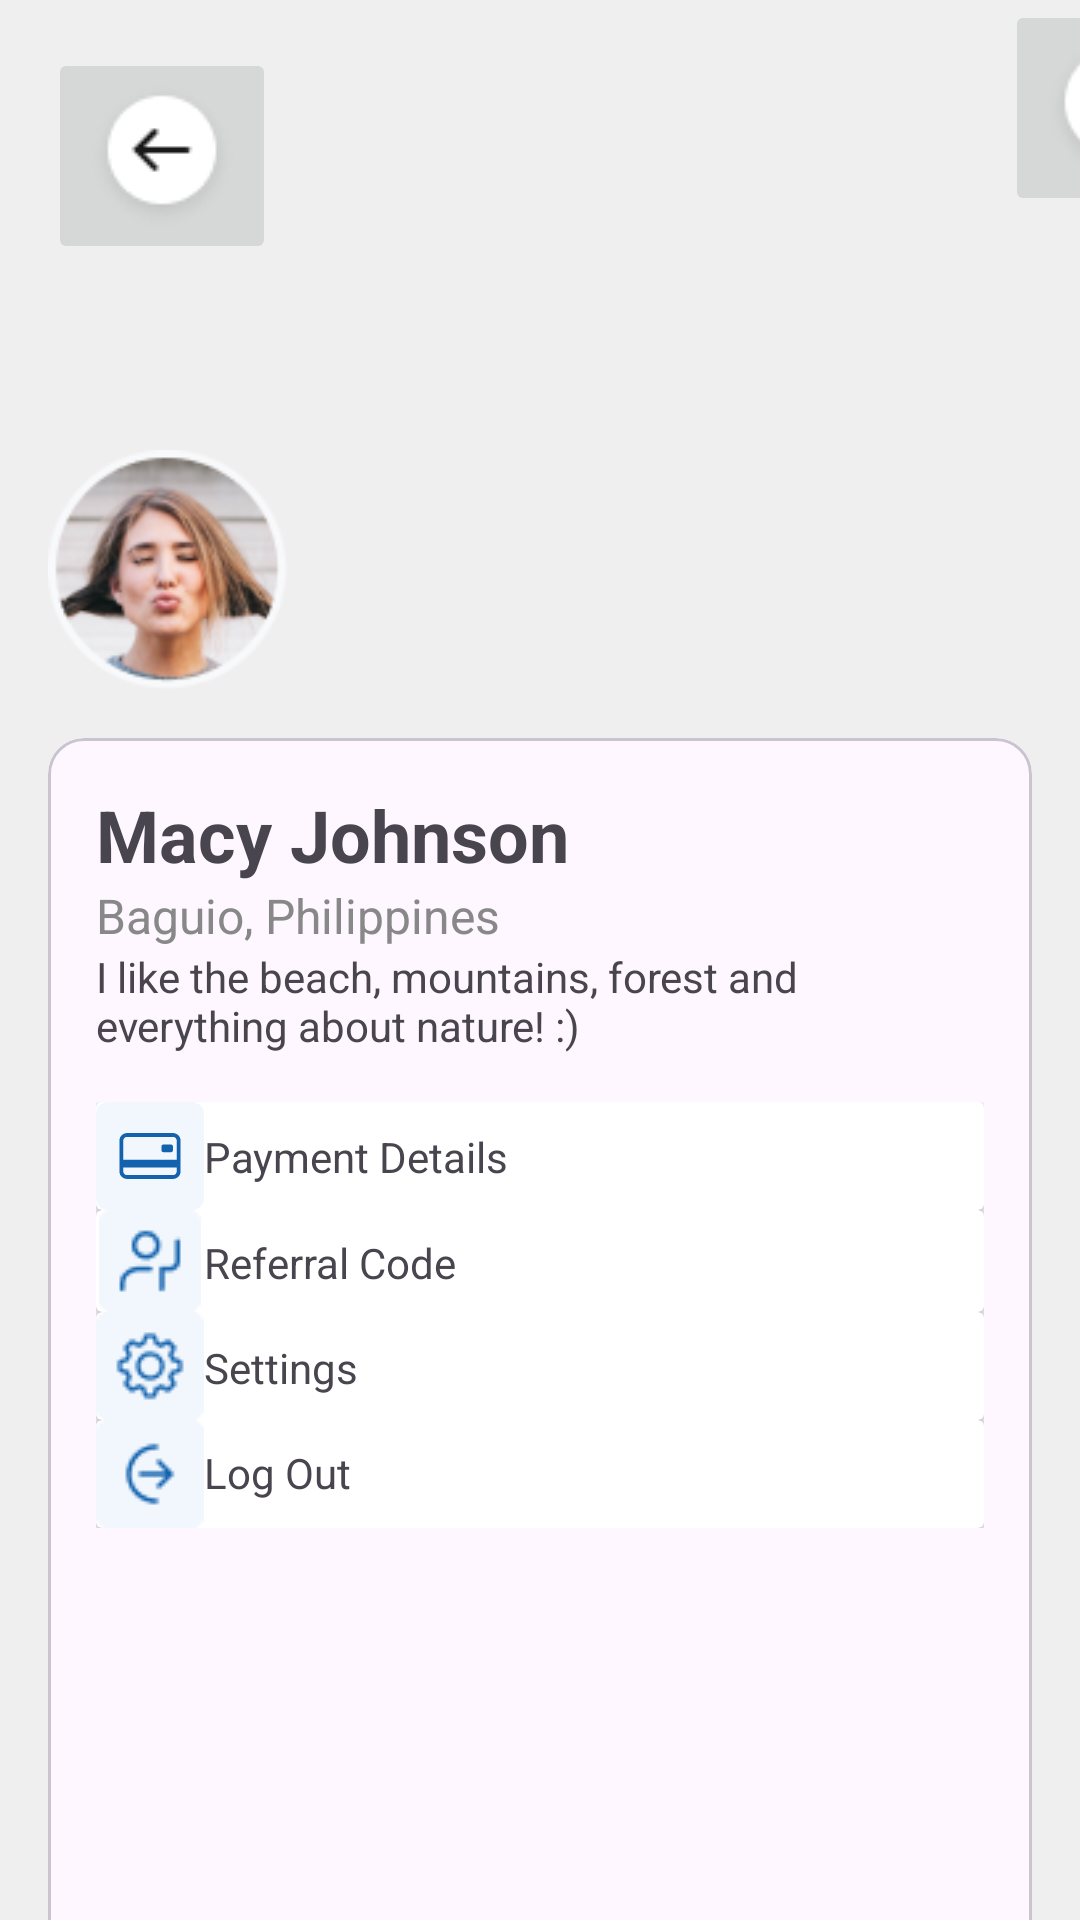

Icon click points for this 1080×1920 phone screenshot, format (x,y):
arrow: (162,156)
profileimage: (167,569)
